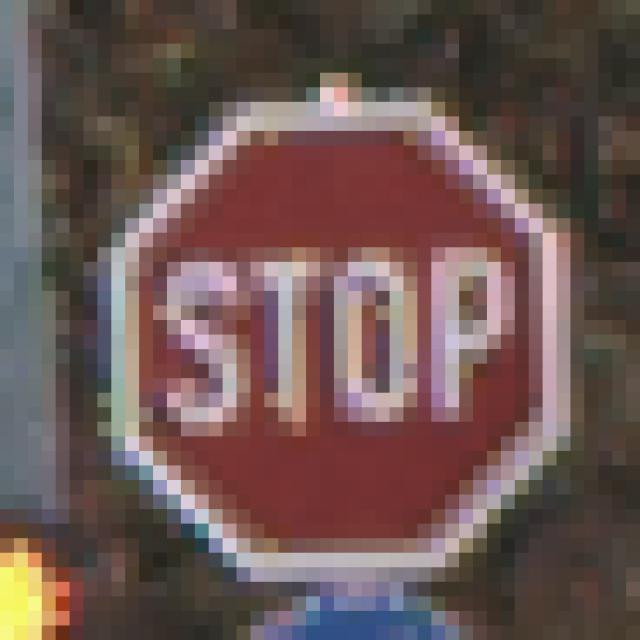STOP: (85, 89, 572, 569)
